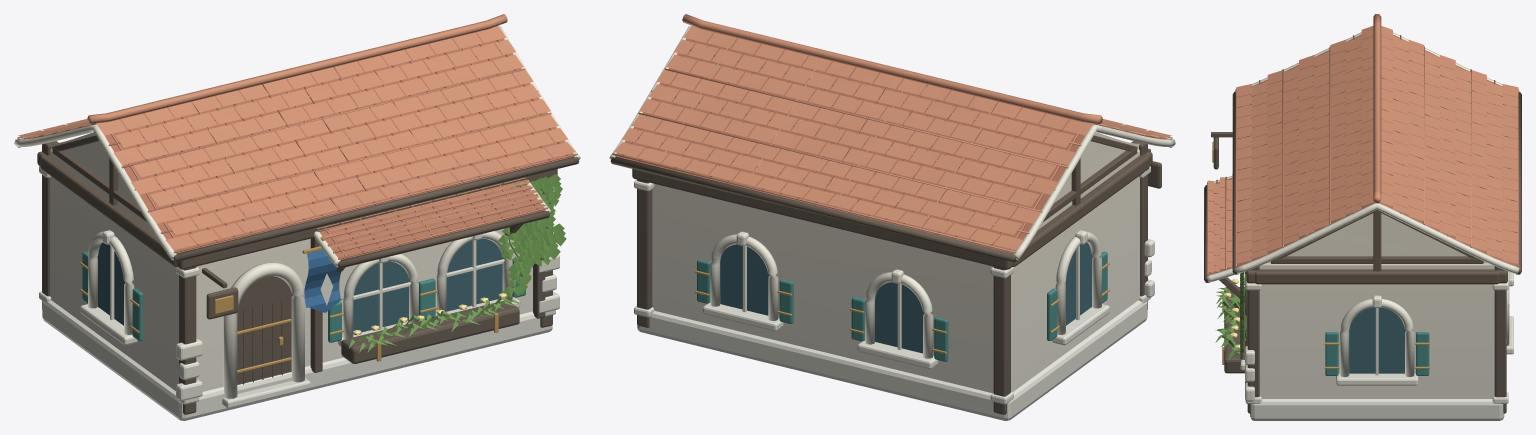
Rendered from shop.glb.
3 renders of one model, left to right at view 1: azimuth 30°, elevation 25°; view 2: azimuth 150°, elevation 25°; view 3: azimuth 270°, elevation 25°, orthographic. The views are drawn at different scales.
Visible parts, largest first — view 1: Sunlit clay tile edges, Carved pale limestone, Weathered walnut beams, Warm limewashed plaster, Warm terracotta roof tiles, Dusky blue window, Garden foliage, Painted teal shutters, Avelune blue linen, Warm brass accents; view 2: Sunlit clay tile edges, Warm limewashed plaster, Carved pale limestone, Weathered walnut beams, Warm terracotta roof tiles, Dusky blue window, Painted teal shutters; view 3: Sunlit clay tile edges, Warm limewashed plaster, Carved pale limestone, Weathered walnut beams, Warm terracotta roof tiles, Dusky blue window, Garden foliage, Painted teal shutters, Warm brass accents.
Boxes of the visible parts, left/top/right/bottom form: Sunlit clay tile edges: left=17, top=14, right=577, bottom=259; Carved pale limestone: left=14, top=26, right=580, bottom=420; Weathered walnut beams: left=17, top=135, right=579, bottom=414; Warm limewashed plaster: left=50, top=132, right=532, bottom=391; Warm terracotta roof tiles: left=22, top=32, right=574, bottom=260; Dusky blue window: left=97, top=238, right=503, bottom=332; Garden foliage: left=349, top=174, right=566, bottom=352; Painted teal shutters: left=82, top=251, right=525, bottom=342; Avelune blue linen: left=304, top=249, right=341, bottom=312; Warm brass accents: left=80, top=237, right=527, bottom=373; Sunlit clay tile edges: left=612, top=14, right=1172, bottom=253; Warm limewashed plaster: left=652, top=132, right=1139, bottom=393; Carved pale limestone: left=609, top=26, right=1175, bottom=420; Weathered walnut beams: left=610, top=135, right=1172, bottom=414; Warm terracotta roof tiles: left=615, top=32, right=1167, bottom=253; Dusky blue window: left=720, top=242, right=1092, bottom=353; Painted teal shutters: left=697, top=251, right=1107, bottom=361; Sunlit clay tile edges: left=1207, top=14, right=1518, bottom=275; Warm limewashed plaster: left=1259, top=213, right=1494, bottom=398; Carved pale limestone: left=1207, top=32, right=1519, bottom=420; Weathered walnut beams: left=1204, top=91, right=1521, bottom=413; Warm terracotta roof tiles: left=1208, top=34, right=1517, bottom=274; Dusky blue window: left=1349, top=307, right=1406, bottom=373; Garden foliage: left=1215, top=271, right=1246, bottom=359; Painted teal shutters: left=1325, top=332, right=1429, bottom=375; Warm brass accents: left=1212, top=142, right=1506, bottom=368.
Bounding box in the file's own units: 6.46 × 3.87 × 4.74.
